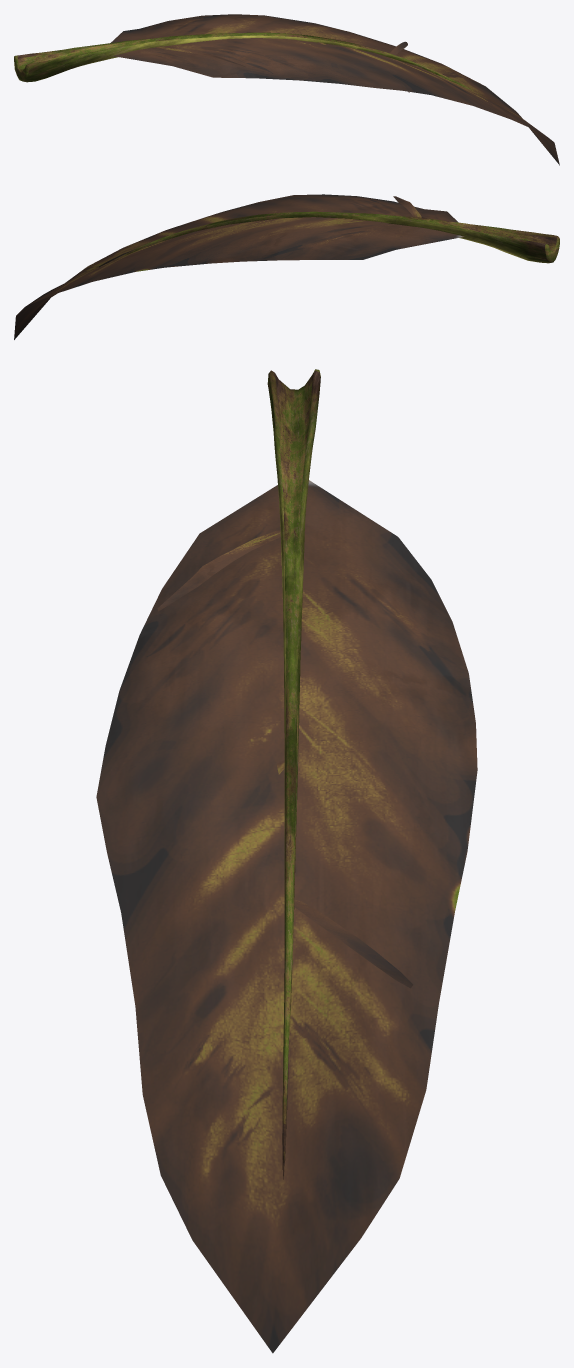
The model's file is SM_Palm_Branch__Retopo_Cylinder_014.fbx.
3 renders of one model, top to bottom at view 1: azimuth 30°, elevation 25°; view 2: azimuth 150°, elevation 25°; view 3: azimuth 270°, elevation 25°, orthographic. The views are drawn at different scales.
Visible parts, largest first — view 1: SM_Palm_Branch__Retopo_Cylinder_014; view 2: SM_Palm_Branch__Retopo_Cylinder_014; view 3: SM_Palm_Branch__Retopo_Cylinder_014.
Part boxes in pixels (<box>): SM_Palm_Branch__Retopo_Cylinder_014: <box>14,14,559,165</box>; SM_Palm_Branch__Retopo_Cylinder_014: <box>14,194,559,339</box>; SM_Palm_Branch__Retopo_Cylinder_014: <box>96,369,477,1353</box>.
Size of the model in its own units: 323 by 99.72 by 134.
